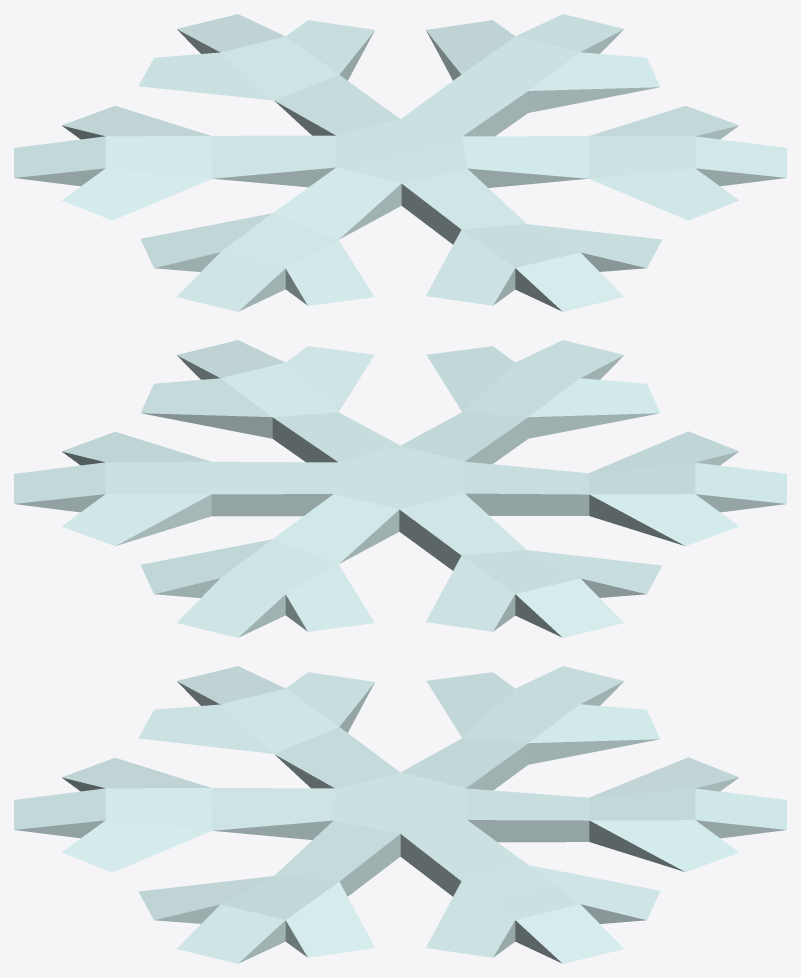
The model's file is snowflake.glb.
3 renders of one model, top to bottom at view 1: azimuth 30°, elevation 25°; view 2: azimuth 150°, elevation 25°; view 3: azimuth 270°, elevation 25°, orthographic.
Parts seen in each view (by area): view 1: snowflake; view 2: snowflake; view 3: snowflake.
Boxes of the visible parts, x1,y1,x2,y2 form: snowflake: (14, 14, 786, 311); snowflake: (14, 340, 786, 637); snowflake: (14, 666, 786, 963).
Size of the model in its own units: 0.3671 by 0.0131 by 0.4026.
Materials: 1 (1 with a texture image).
